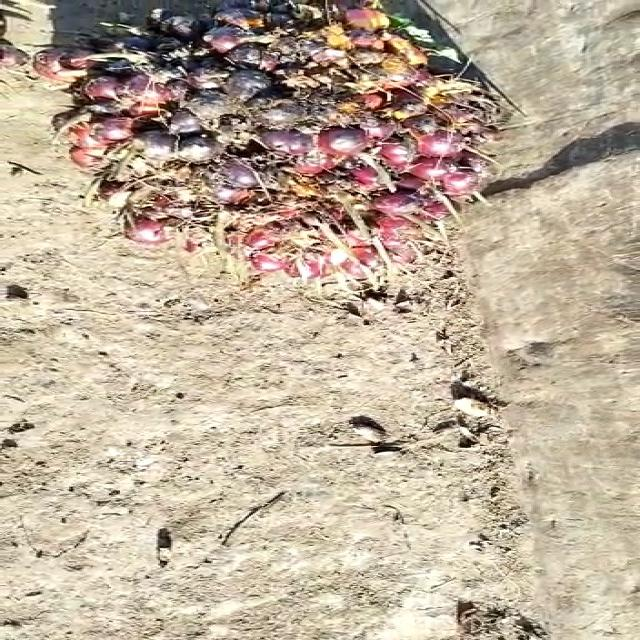palm oil: (47, 0, 531, 270)
